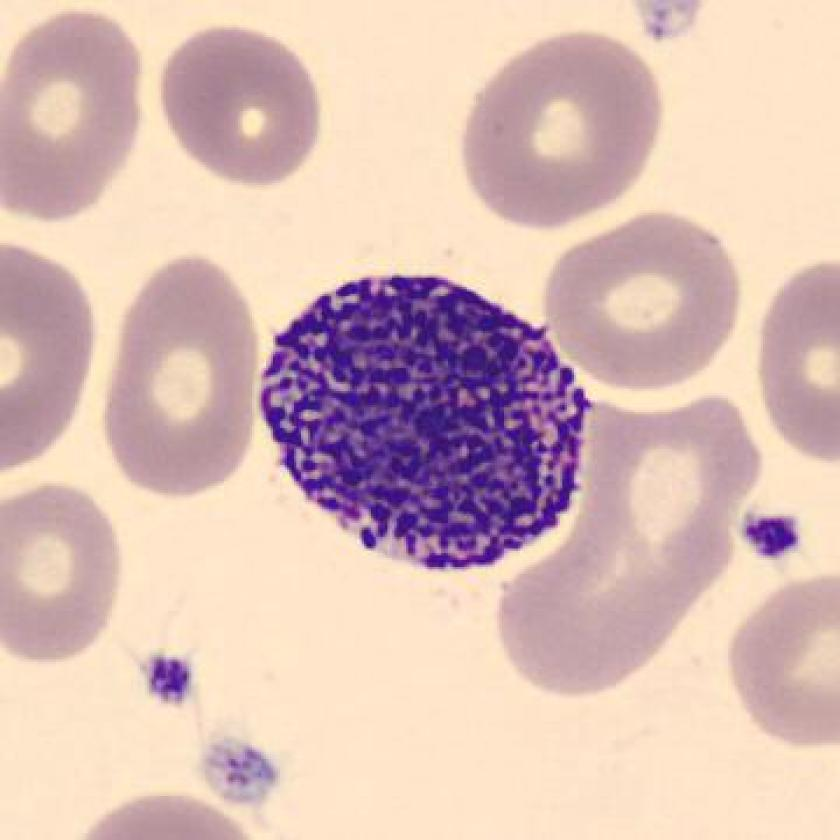basophil: (251, 267, 598, 577)
